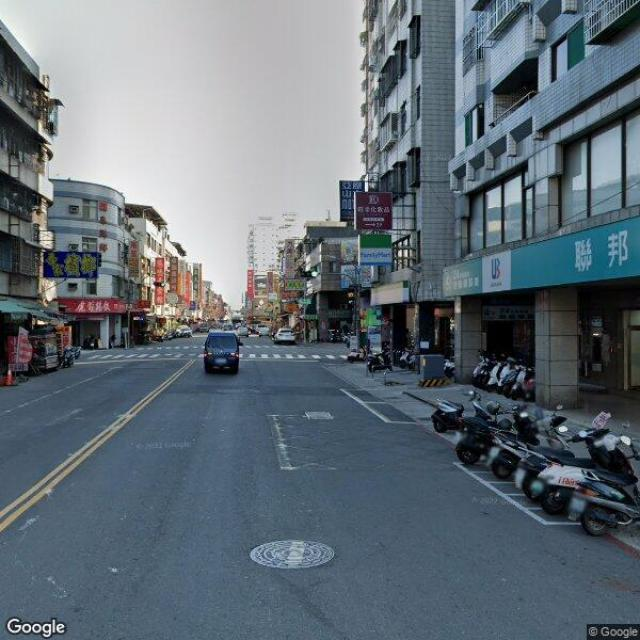Legalparking: (440, 393, 638, 511), (473, 354, 549, 394)
illegalparking: (358, 351, 400, 371), (274, 326, 298, 346)
